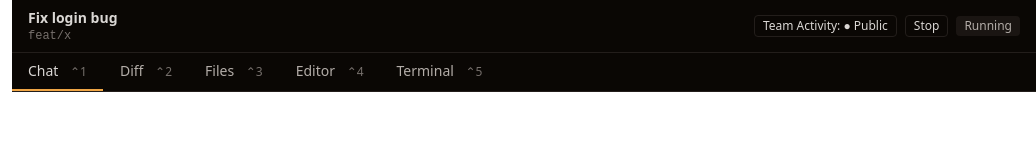
WorkspaceView › Stop button › disables Stop button while stop_agent is in flight
Click the button "Stop": (927, 26) [905, 15, 948, 37]
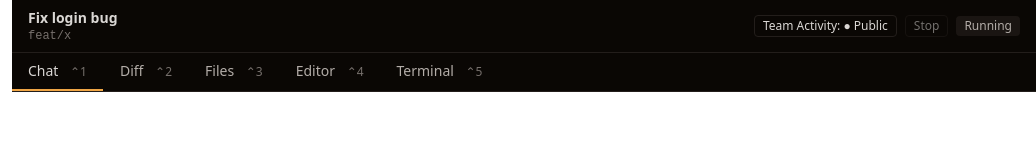
Expected: the button "Stop" is disabled, [905, 15, 948, 37]
